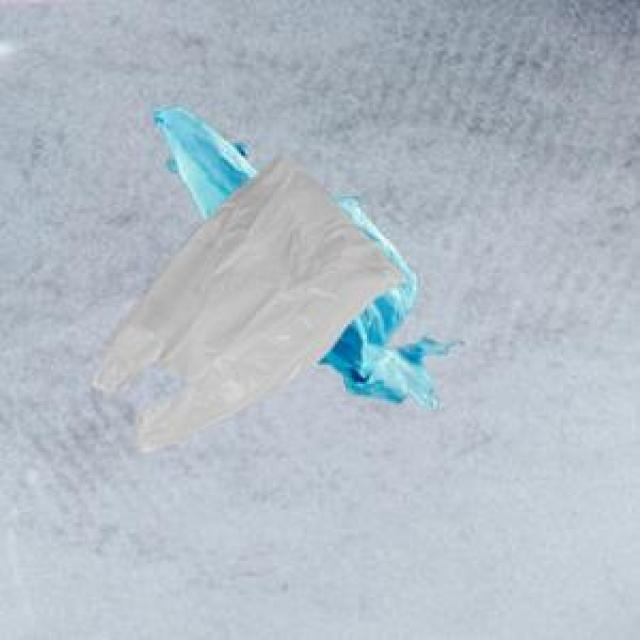waste: (95, 106, 454, 451)
